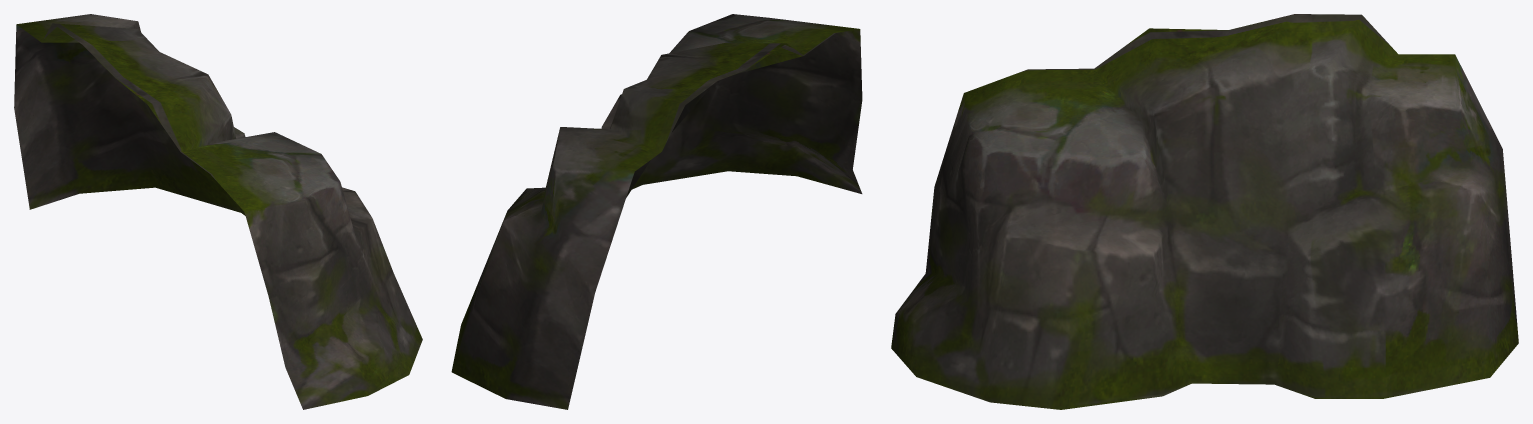
Rendered from common_yewai_stone09.FBX.
3 renders of one model, left to right at view 1: azimuth 30°, elevation 25°; view 2: azimuth 150°, elevation 25°; view 3: azimuth 270°, elevation 25°, orthographic. The views are drawn at different scales.
Visible parts, largest first — view 1: common_yewai_stone09; view 2: common_yewai_stone09; view 3: common_yewai_stone09.
Boxes of the visible parts, box(x1,y1,x2,y2) form: common_yewai_stone09: box(14, 14, 422, 409); common_yewai_stone09: box(451, 14, 862, 409); common_yewai_stone09: box(891, 14, 1518, 409).
Size of the model in its own units: 9.8 by 10.52 by 21.67.
